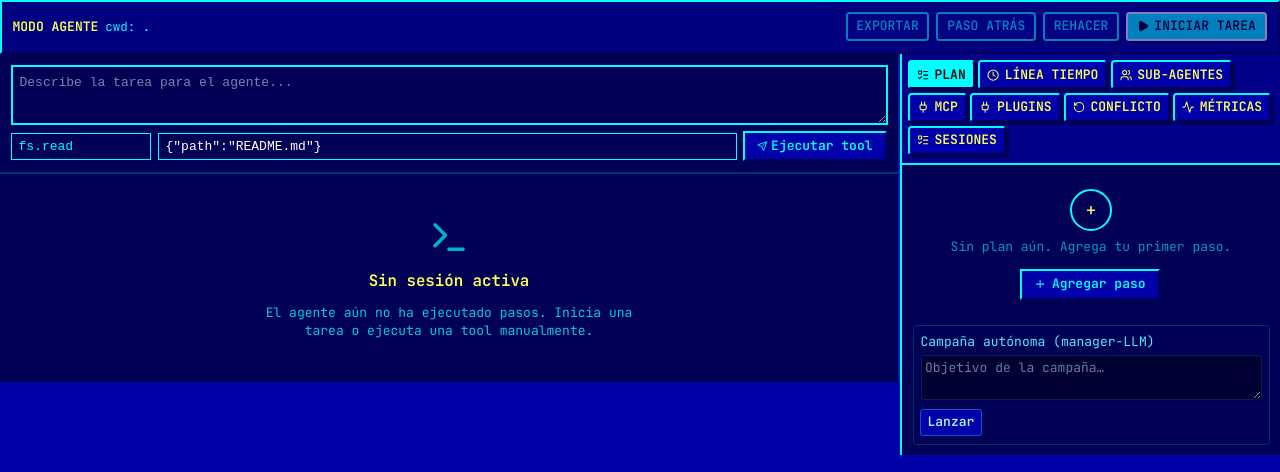
Test: AgentMode · sesiones interrumpidas › una sesión cerrada no se marca como interrumpida
Click the button "SESIONES" at (957, 140), box [908,126,1006,155]
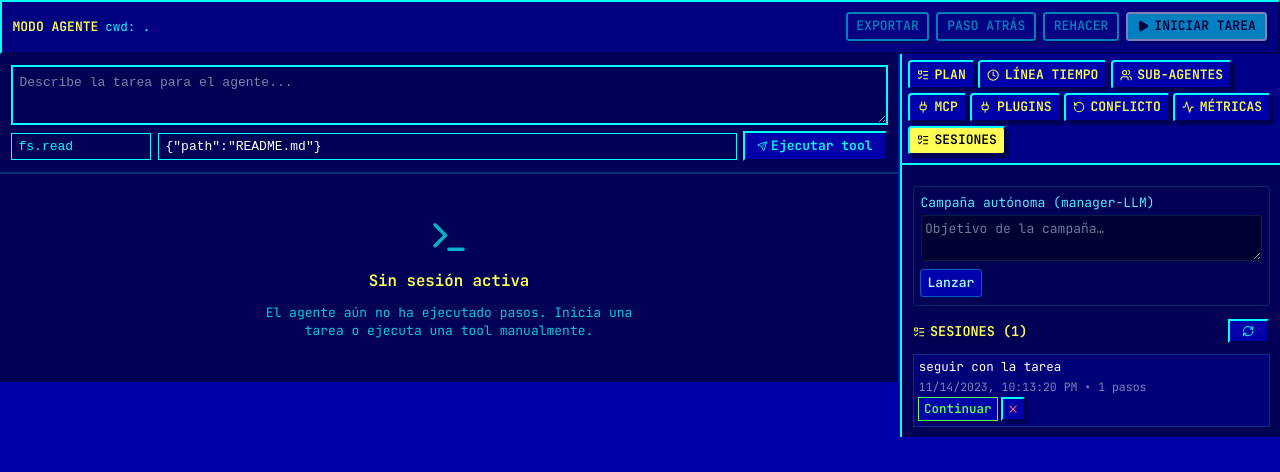
Check: the button "Continuar" is shown, box [918,397,998,421]
